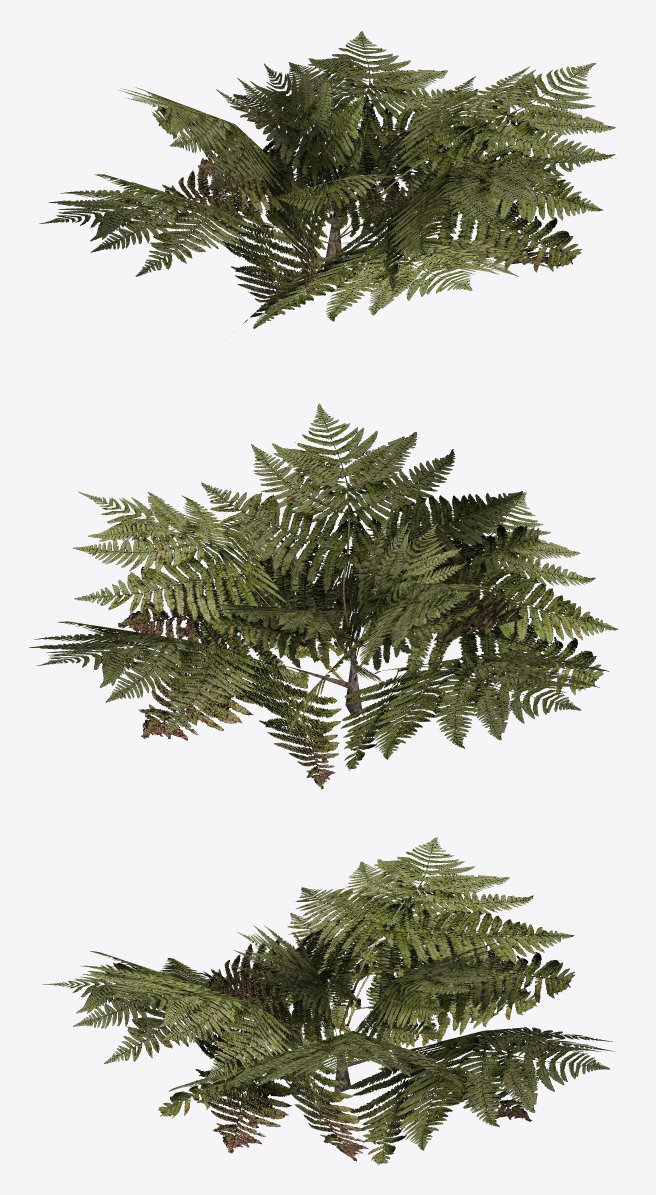
The model's file is NW_NATURE_FARN_102P.glb.
3 views of the same model, one above another, from view 1: azimuth 30°, elevation 25°; view 2: azimuth 150°, elevation 25°; view 3: azimuth 270°, elevation 25° (orthographic). The views are drawn at different scales.
Visible parts, largest first — view 1: Mesh; view 2: Mesh; view 3: Mesh.
Boxes of the visible parts, x1=… form: Mesh: x1=39, y1=31, x2=616, y2=328; Mesh: x1=29, y1=403, x2=618, y2=789; Mesh: x1=42, y1=837, x2=614, y2=1165.
Bounding box in the file's own units: 4.36 × 1.64 × 4.24.
2 materials, 2 textured.
